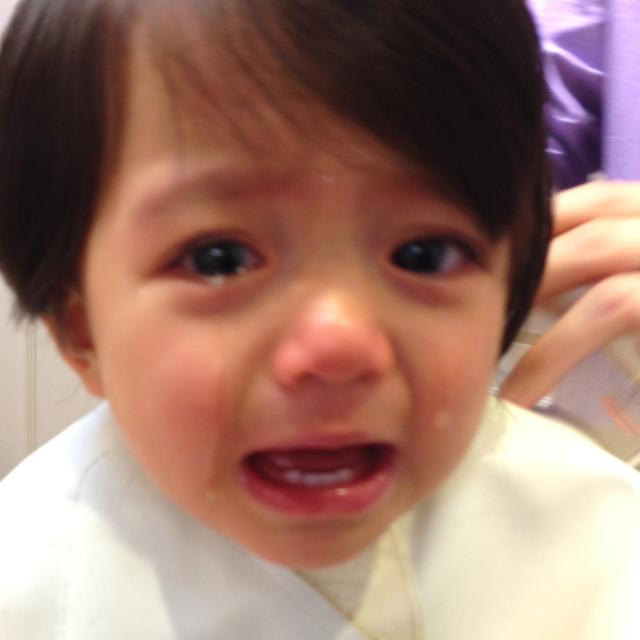Depress: (72, 17, 514, 574)
